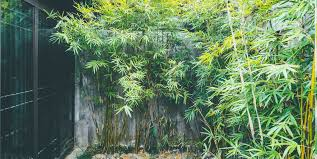bamboo: (66, 11, 310, 147)
